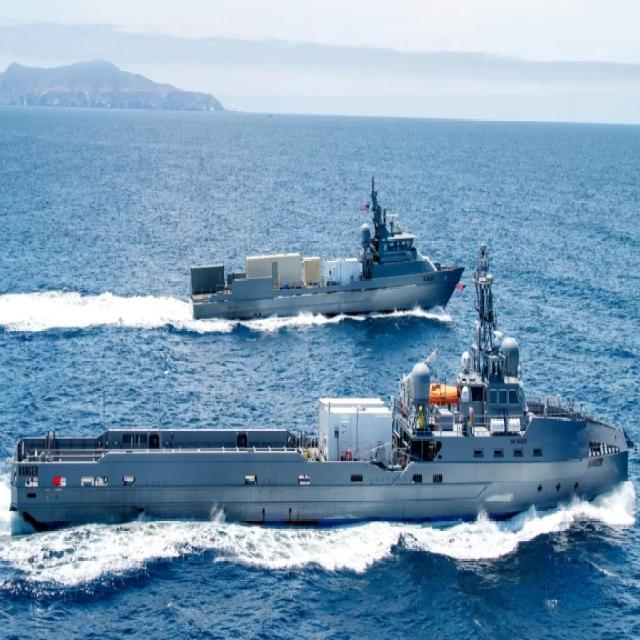navalvessels: (2, 260, 614, 521), (169, 194, 459, 318)
